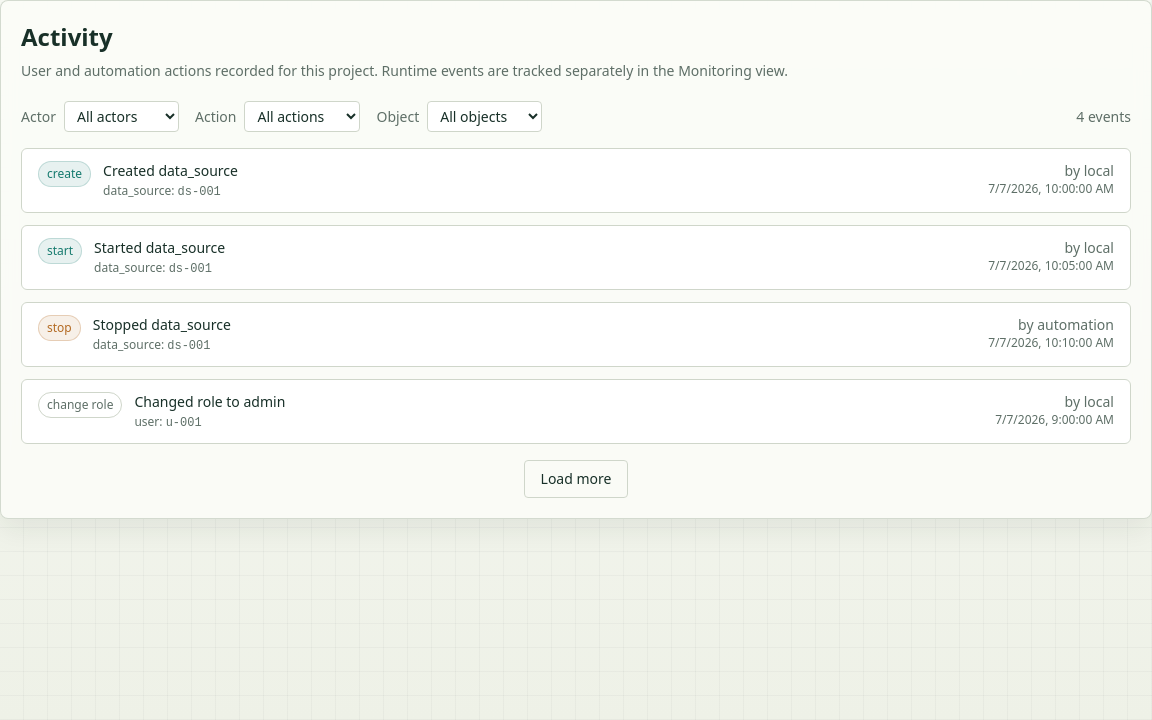
Test case: ActivityPage — pagination › appends events when load more is clicked
Click the button "Load more": (576, 479) x1=524 y1=460 x2=628 y2=498
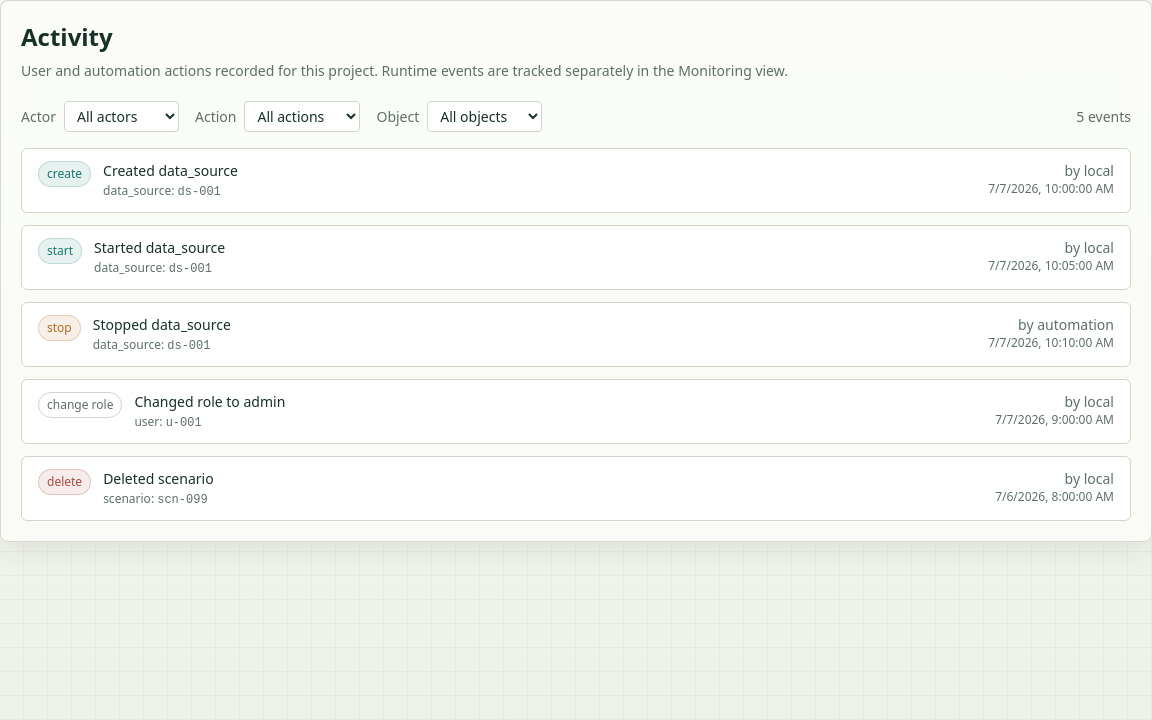
Result: the number of list items is 5 at x1=21 y1=148 x2=1131 y2=213; x1=21 y1=225 x2=1131 y2=290; x1=21 y1=302 x2=1131 y2=367; x1=21 y1=379 x2=1131 y2=444; x1=21 y1=456 x2=1131 y2=521
Result: the button "Load more" is gone
